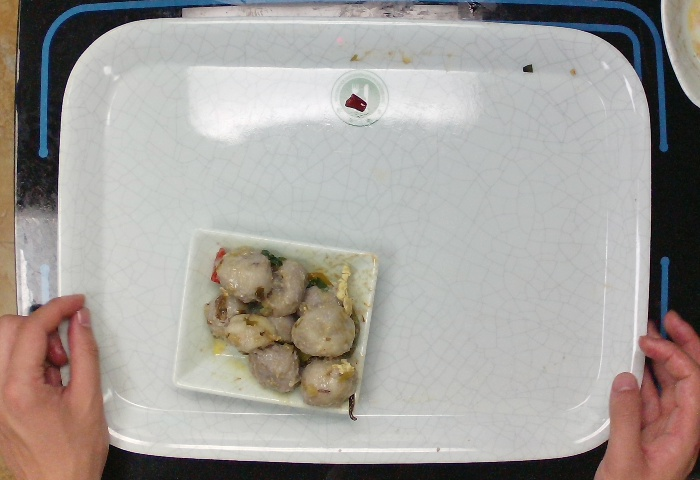WCQzf-Ru_Ci_Si_Fang_Die: (167, 224, 383, 418)
